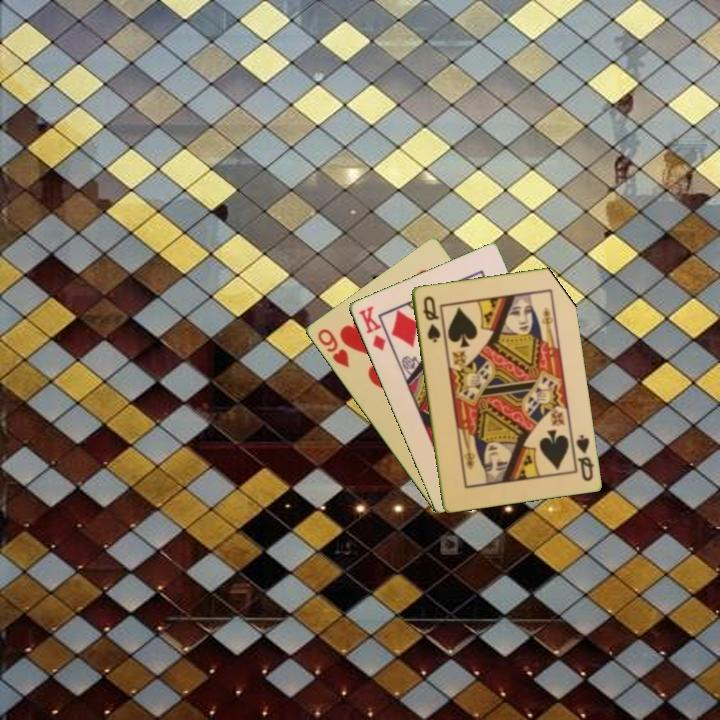9h: (313, 325, 352, 371)
Kd: (355, 302, 388, 354)
Qs: (419, 292, 443, 345), (572, 431, 596, 484)
